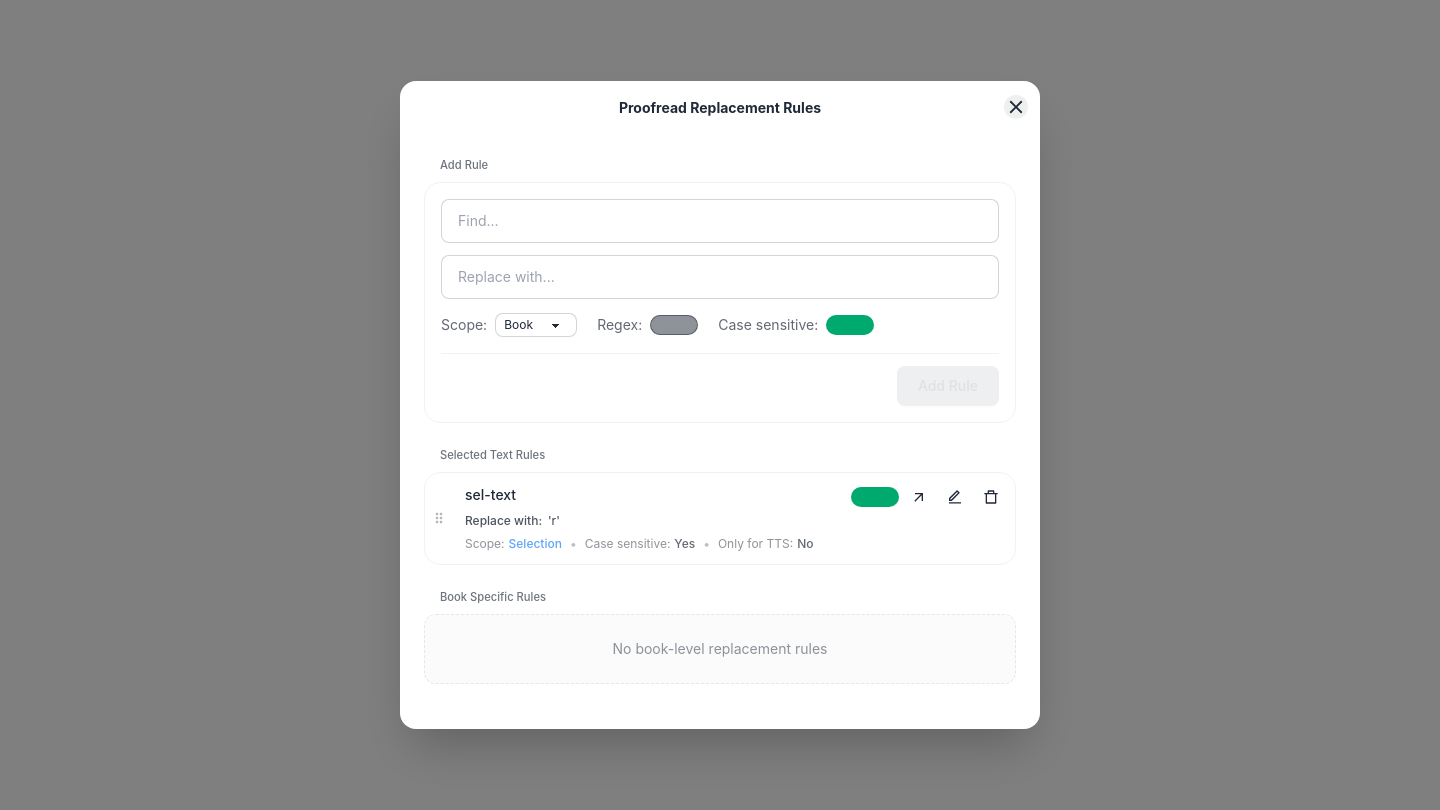
Scenario: ProofreadRulesManager › keeps Find read-only when editing a selection rule
Click the button named "Edit" at x=955, y=497, box [939,481,971,513]
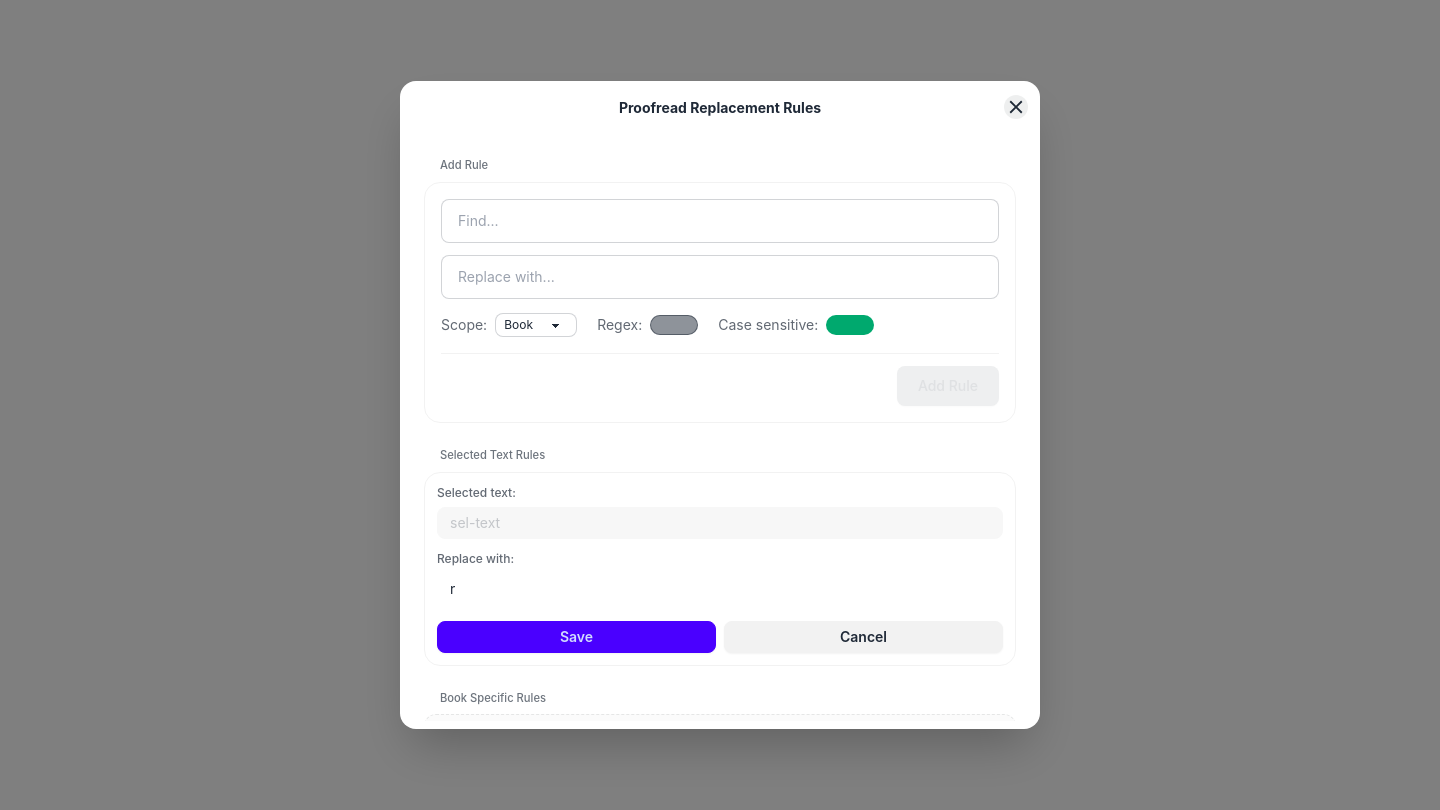
Expected: the field showing "sel-text" below "Selected text:" is disabled, [437,507,1003,539]
